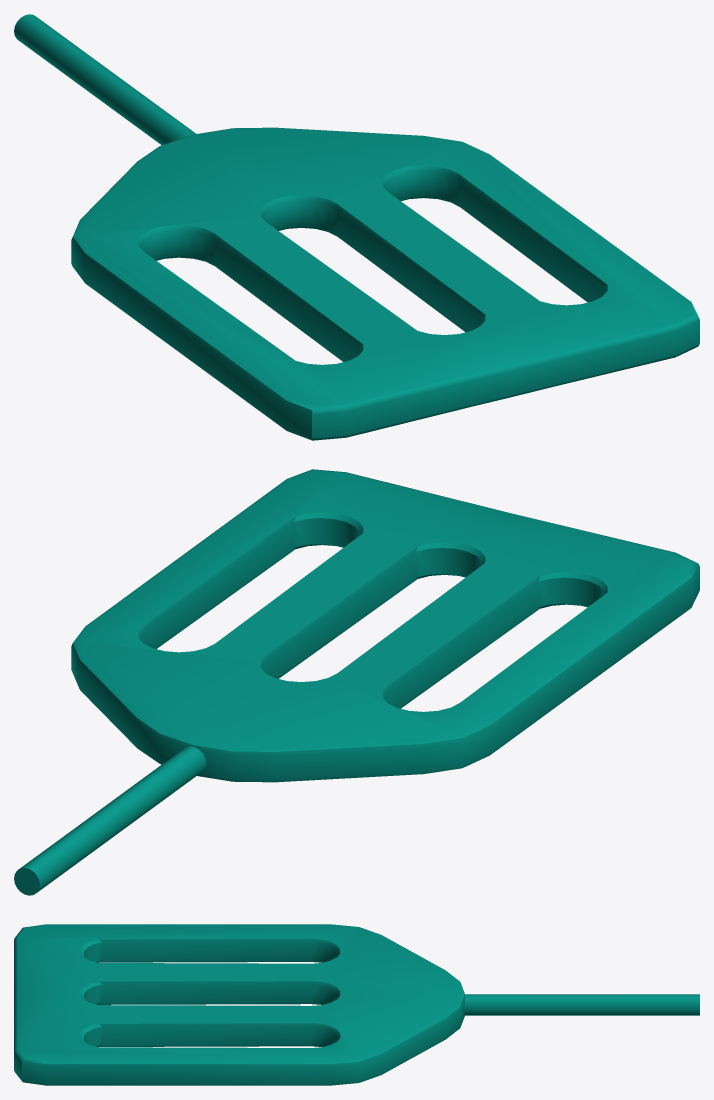
3 renders of one model, top to bottom at view 1: azimuth 30°, elevation 25°; view 2: azimuth 150°, elevation 25°; view 3: azimuth 270°, elevation 25°, orthographic. The views are drawn at different scales.
Size of the model in its own units: 0.3046 by 0.0233 by 0.6278.
